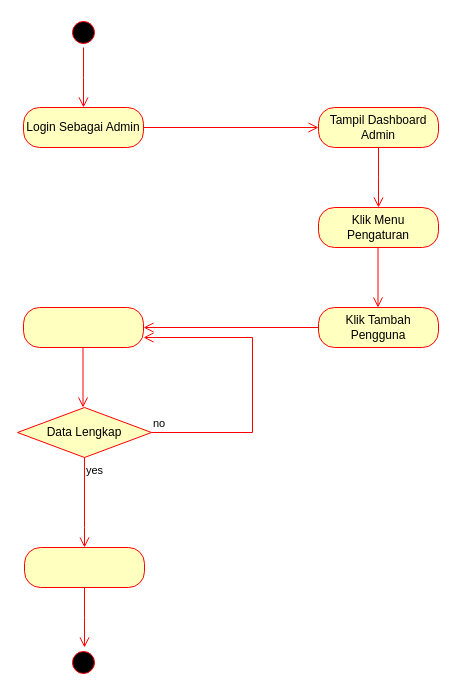
The diagram is 456 pixels wide and 695 high, and some of its shapes have lost their labels. Here are the shapes that lost their labels. From the top down, the centre of each, then its label:
[83,327]: Input Form Pengguna Baru
[84,567]: Submit
